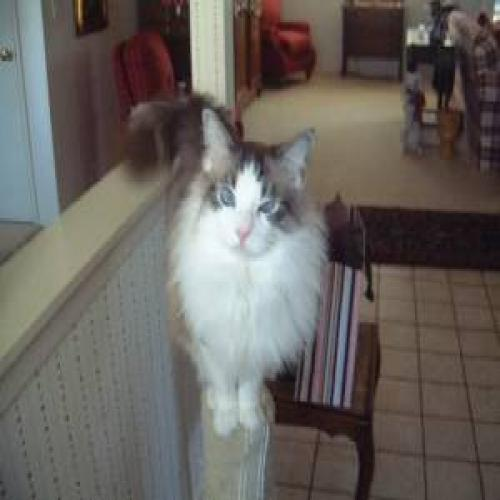ragdoll: (194, 124, 317, 279)
